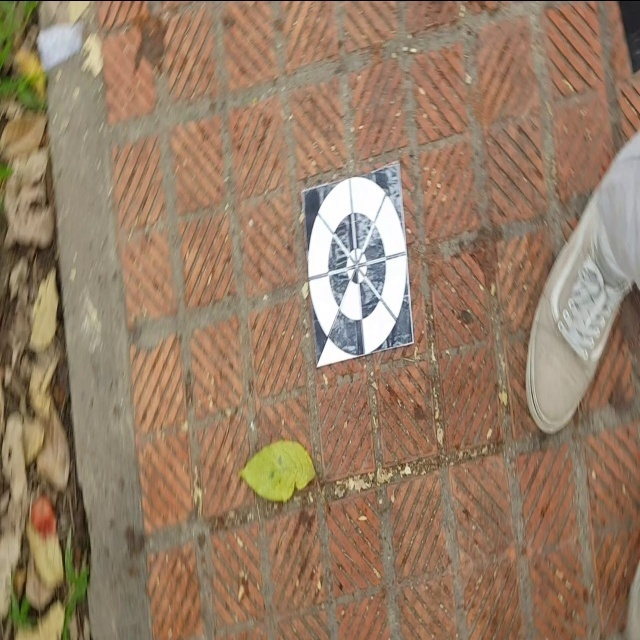landing-zone: (301, 157, 419, 367)
